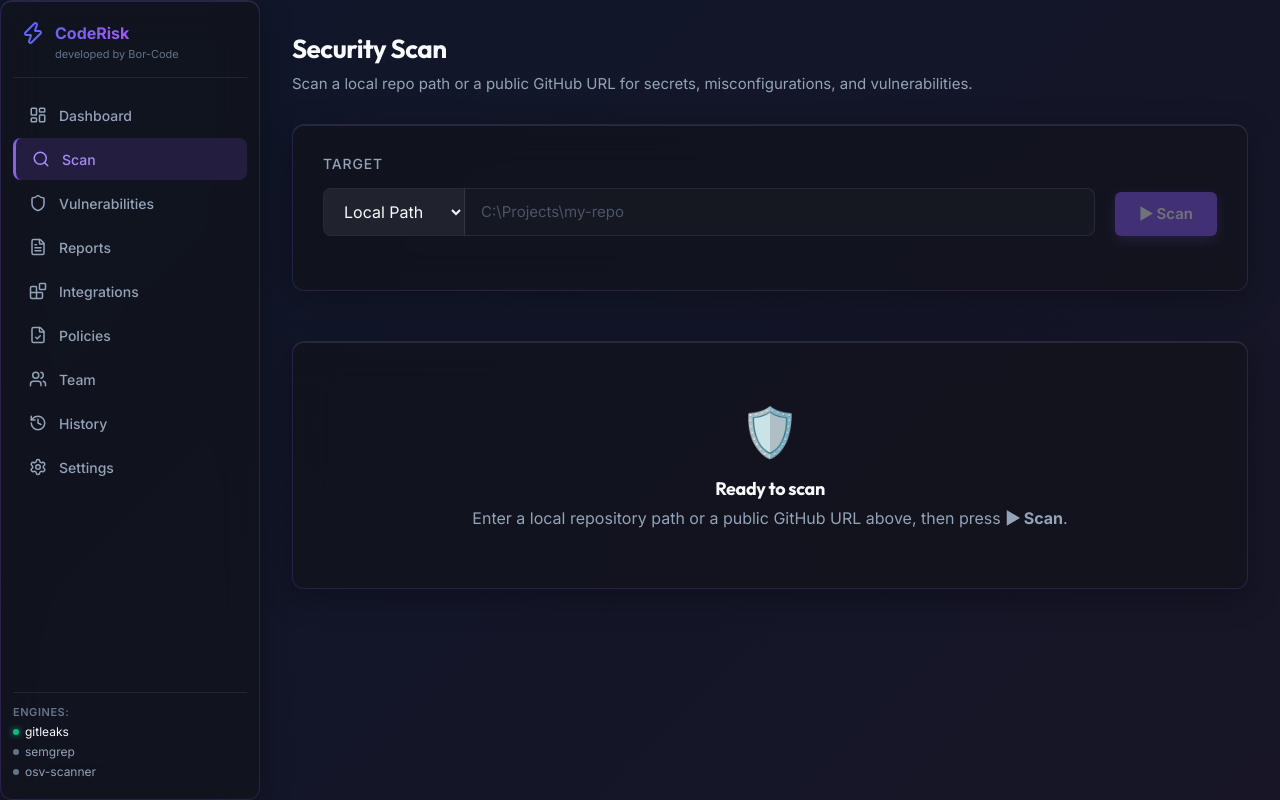
Test: App › allows switching to history tab
Click the button "History" at (130, 423), box [13,402,247,444]
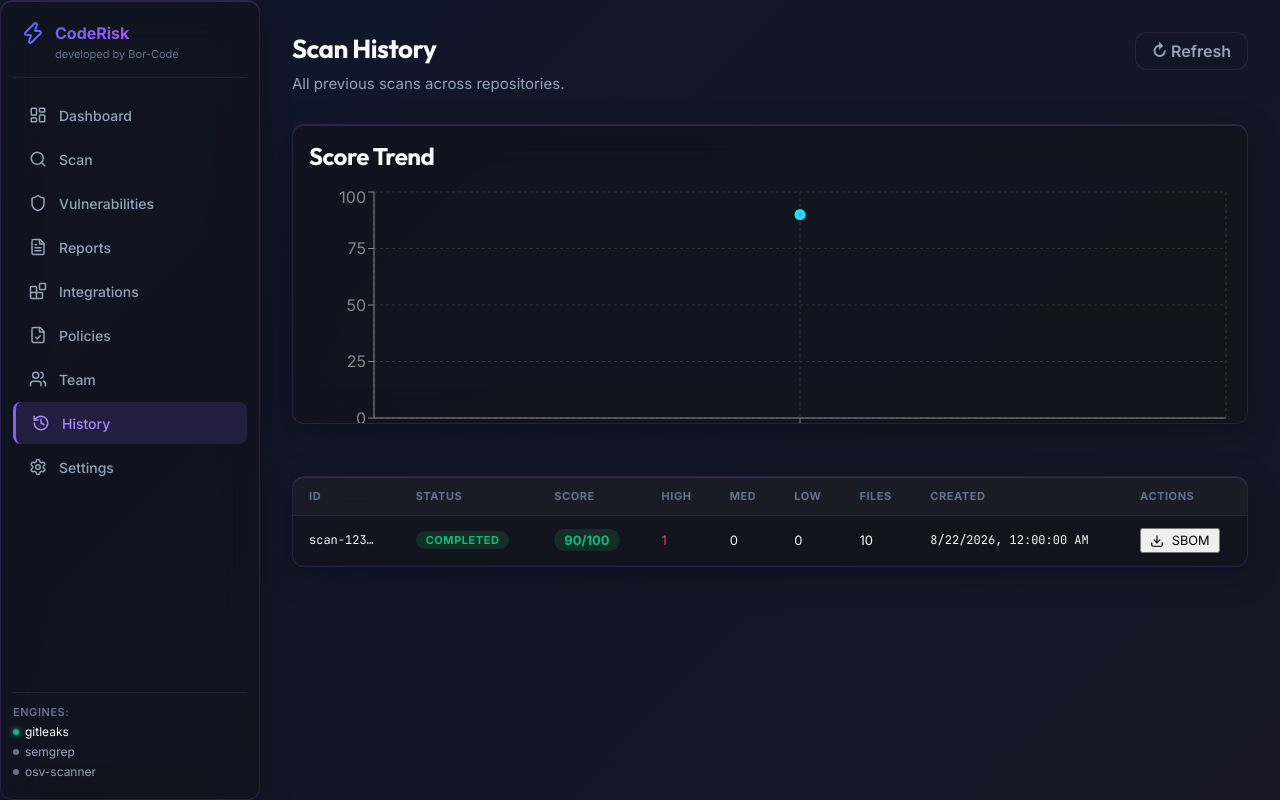
Result: the heading "Scan History" is shown at [292,32,436,65]
Result: the button "SBOM" is shown at [1140,528,1220,553]
